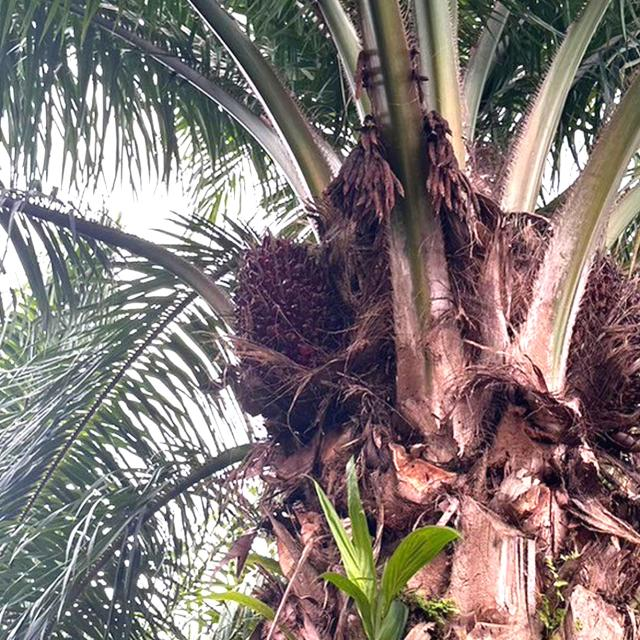ripe: (233, 228, 349, 410)
